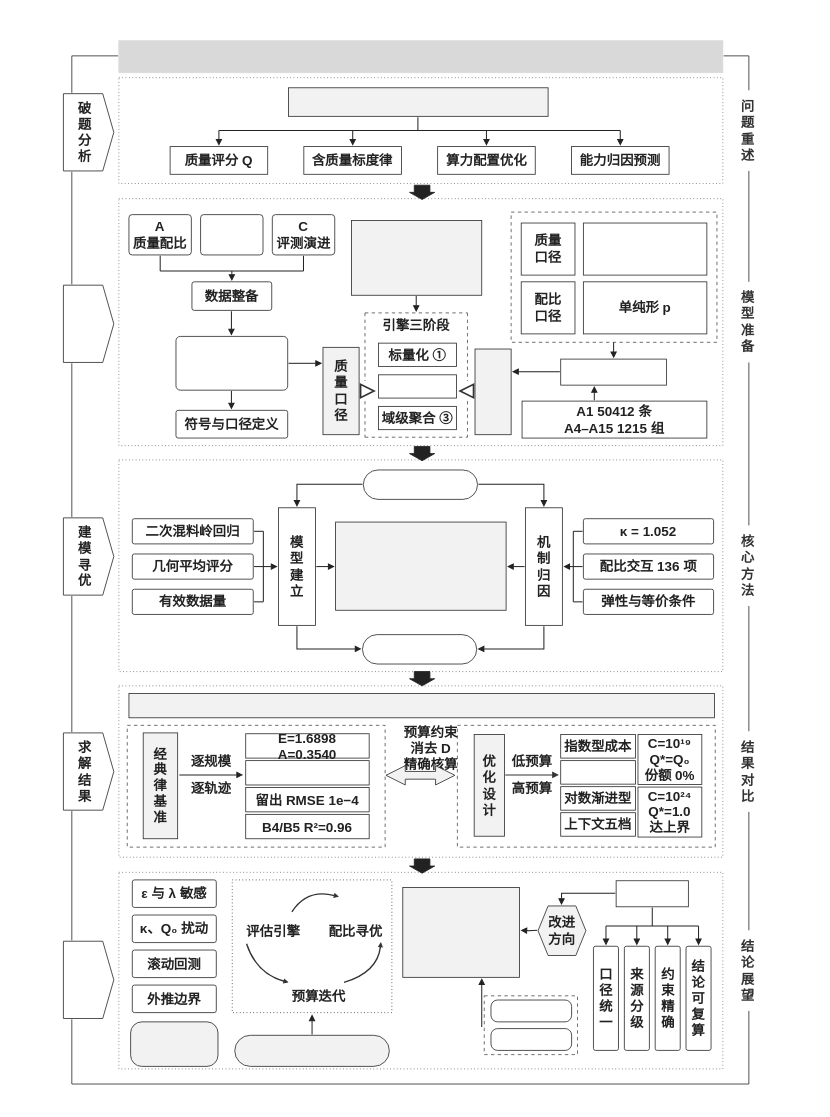
Image size: 830x1117. Some labels were removed from this diagram. The centre of each missing label's shape, as x and y in pixels:
"13 域等权" belongs at pixel 613 371.
"B 标度轨迹" belongs at pixel 231 234.
"bootstrap 400 次" belongs at pixel 311 1050.
"α=0.3400 β=0.2799" belongs at pixel 307 772.
"三档预算 × 三类质量成本 × 五档上下文长度的最优配置" belongs at pixel 421 705.
"假 设 口 径" belongs at pixel 88 323.
"假设 ①–⑥ 来源分级：真实 半合成、插值" belongs at pixel 231 363.
"内容四：误差分 析与灵敏度、模 型评价与改进、 应用推广" belongs at pixel 461 932.
"域级 Q 聚合" belongs at pixel 645 248.
"幂函数成本" belongs at pixel 597 772.
"广义标度律 L = E + A·N^(−α) + B·(D·Q^κ·h(p))^(−β) Q=1 时退化为经典律" belongs at pixel 420 565.
"损 失 口 径" belongs at pixel 492 391.
"数据采购" belongs at pixel 531 1039.
"方向统一 ②" belongs at pixel 417 386.
"模型评价" belongs at pixel 651 893.
"算力有限时数据质量与配比如何影响损失" belongs at pixel 418 101.
"算力约束下大语言模型资源配置建模：技术路线" belongs at pixel 420 56.
"算力调度" belongs at pixel 531 1010.
"统一评估引擎 22 指标 → 4 组 组内均值 + 组间 几何平均（短板）" belongs at pixel 416 257.
"规模通道：N 与 D" belongs at pixel 419 649.
"解析参照 交叉校验" belongs at pixel 174 1043.
"评 价 推 广" belongs at pixel 88 979.
"质量通道：Q 折算" belongs at pixel 420 484.
